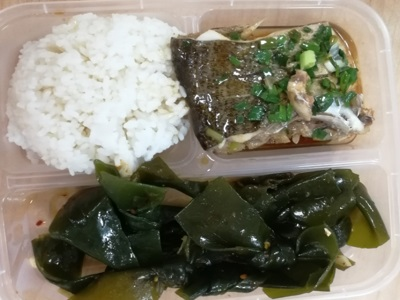hd: (30, 188, 348, 288)
rice: (19, 30, 169, 153)
yd: (193, 34, 350, 133)
